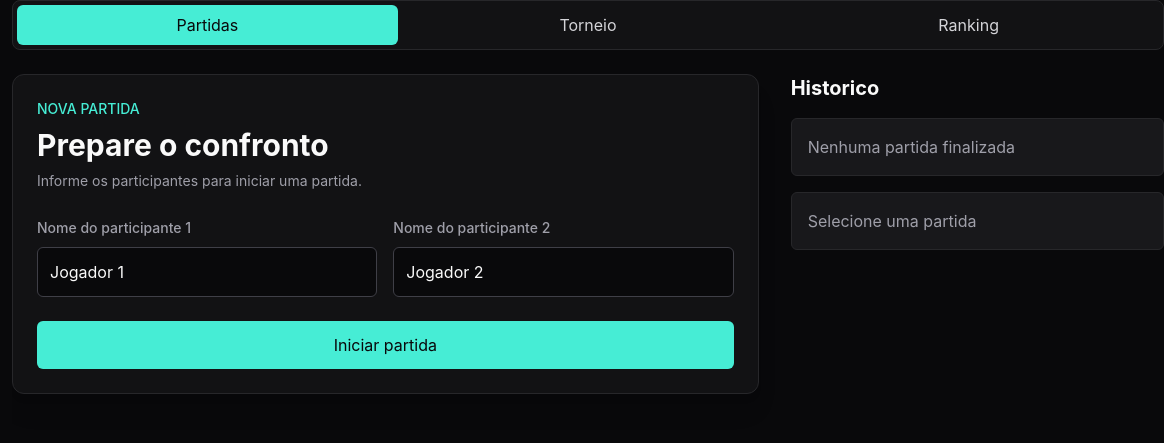
Test: TennisWorkspace › starts and scores a simple tennis match
Click the button "Partidas": [207, 25] box top-left (17, 5), bottom-right (398, 45)
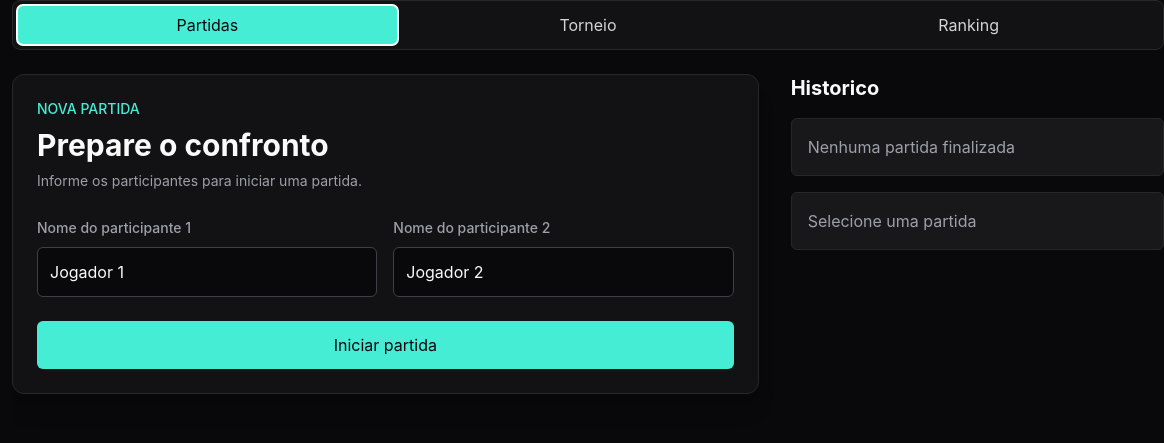
Replace the text in the field labelled "Nome do participante 1" with "Ana": [207, 272] box top-left (37, 247), bottom-right (377, 297)
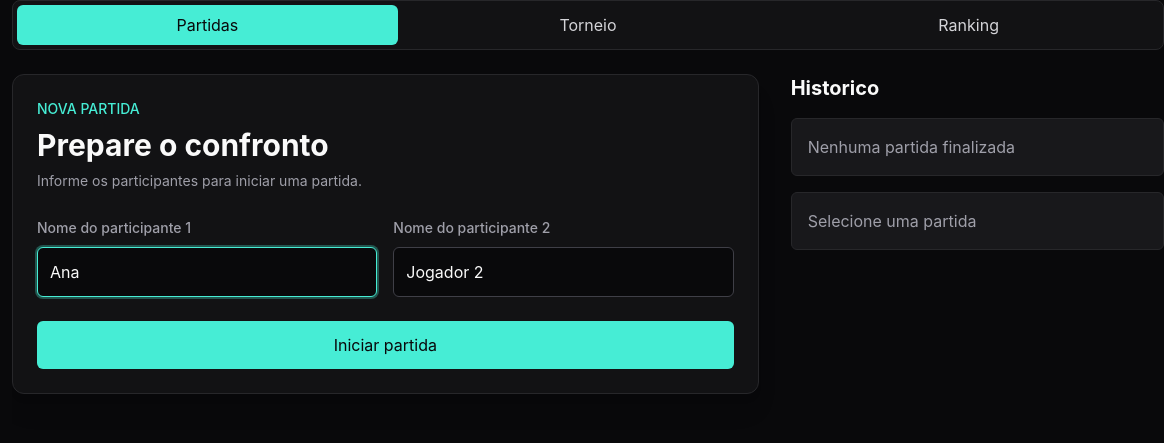
Replace the text in the field labelled "Nome do participante 2" with "Bia": [563, 272] box top-left (393, 247), bottom-right (734, 297)
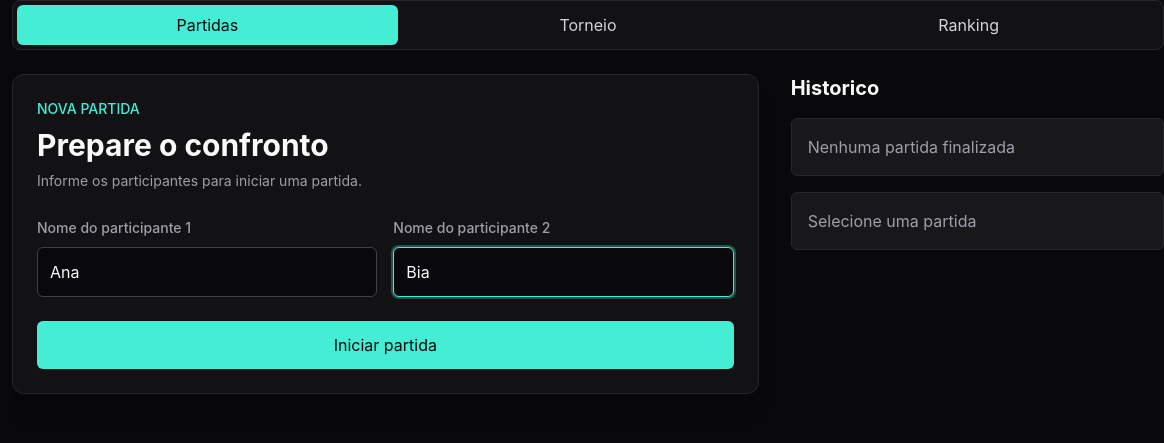
Click the button "Iniciar partida": [385, 345] box top-left (37, 321), bottom-right (734, 369)
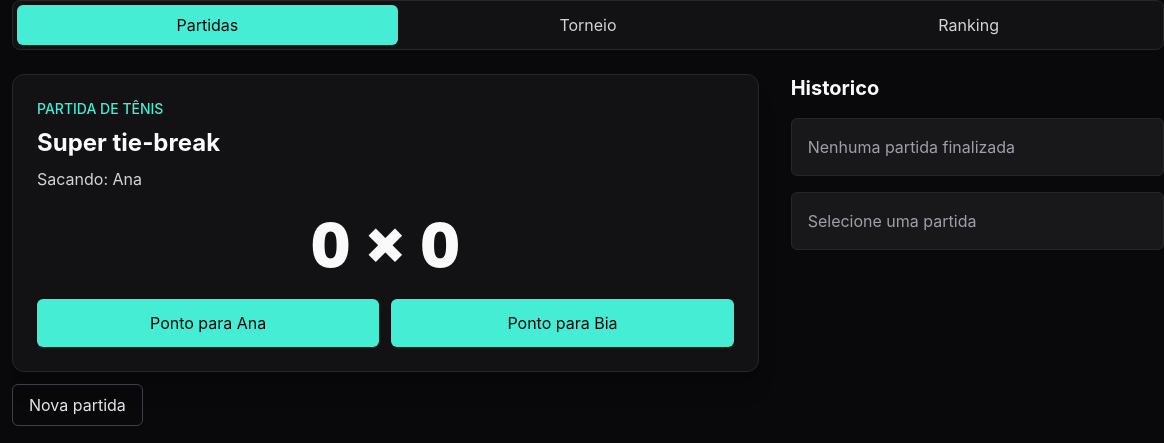
Expected: the heading "Super tie-break" is shown, top-left (37, 128), bottom-right (220, 157)
Click the button "Ponto para Ana": [208, 323] box top-left (37, 299), bottom-right (379, 347)
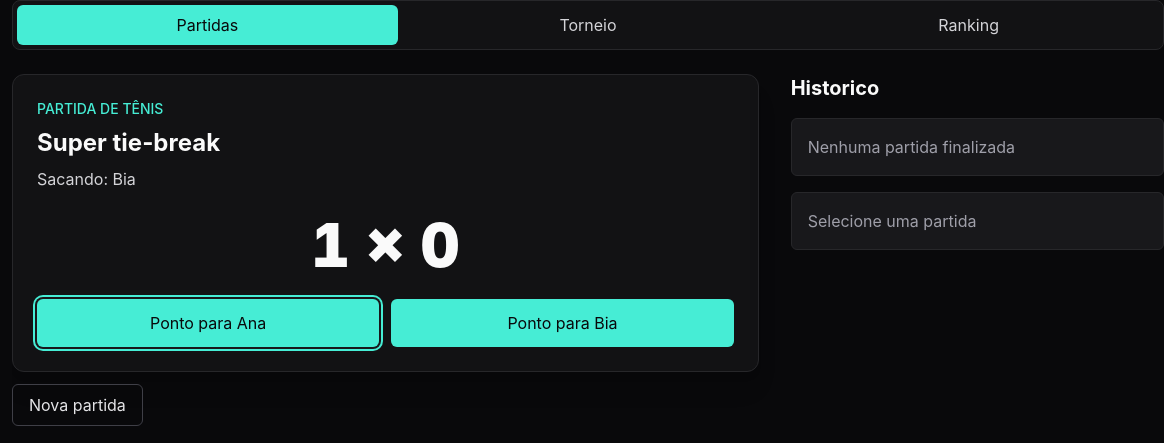
Expected: the text named "Placar do super tie-break" reads "1 × 0", top-left (311, 209), bottom-right (460, 281)
